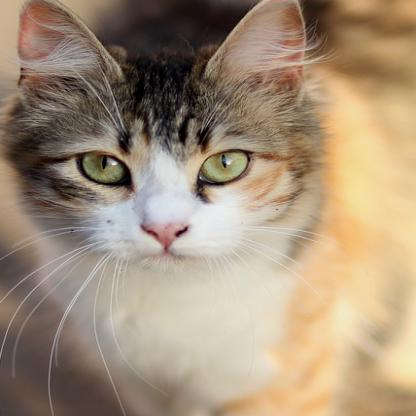cat: (1, 0, 324, 293)
